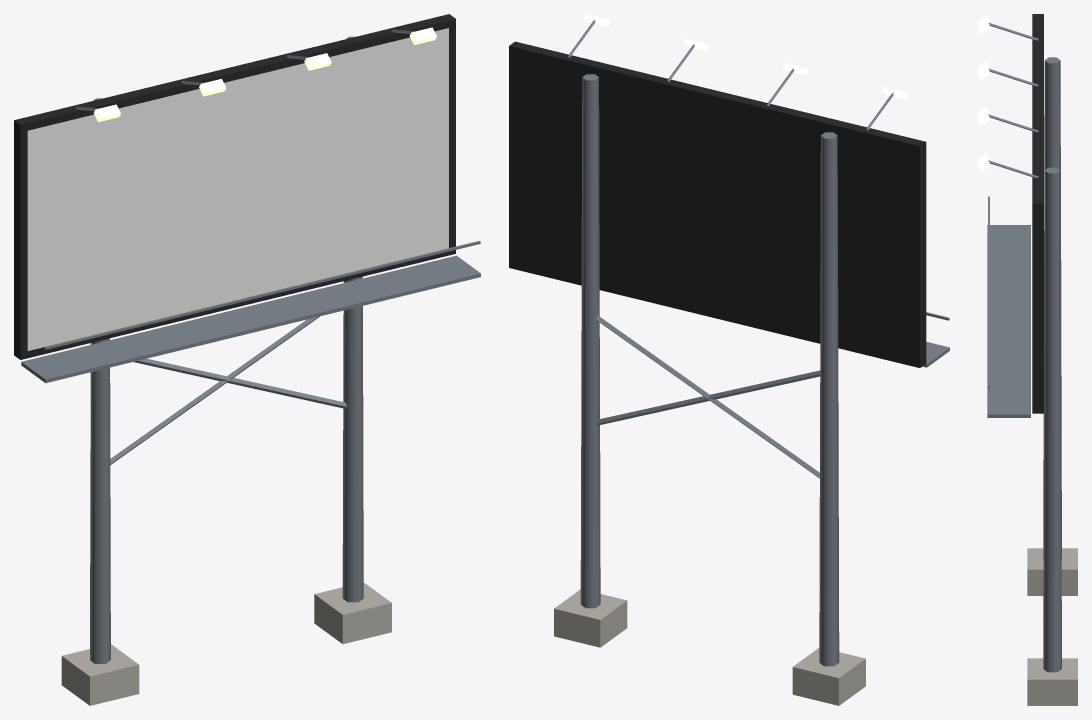
Rendered from papan_reklame.glb.
3 views of the same model, side by side, from view 1: azimuth 30°, elevation 25°; view 2: azimuth 150°, elevation 25°; view 3: azimuth 270°, elevation 25° (orthographic). The views are drawn at different scales.
Parts seen in each view (by area): view 1: body; view 2: body; view 3: body.
Boxes of the visible parts, x1,y1,x2,y2 form: body: [14, 14, 480, 705]; body: [509, 14, 949, 705]; body: [978, 14, 1077, 705].
Size of the model in its own units: 6.2 by 8.4 by 1.38.
